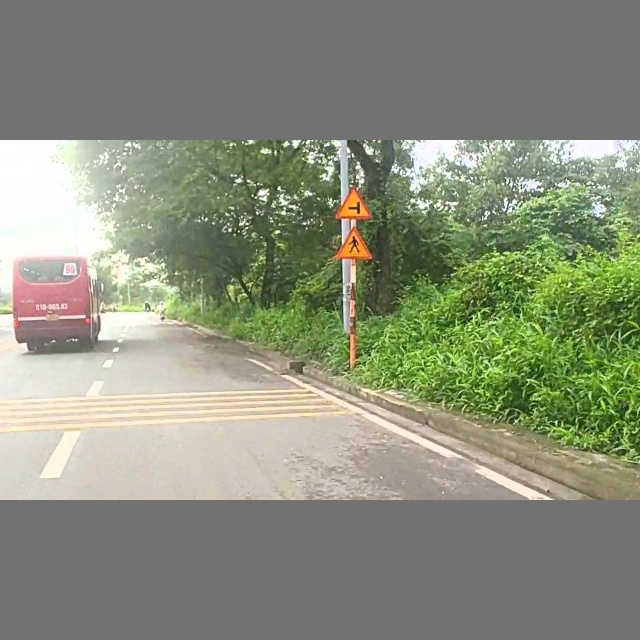W.205c: (335, 186, 378, 219)
W.224: (331, 224, 377, 262)
